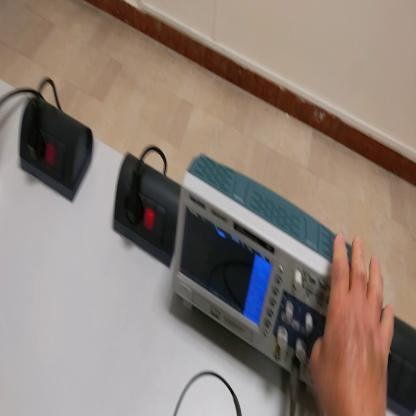hand: (310, 230, 393, 416)
oscilloscope: (170, 149, 352, 390)
oscilloscope probe tip: (234, 395, 244, 416)
socket: (18, 97, 97, 207), (116, 154, 181, 272)
